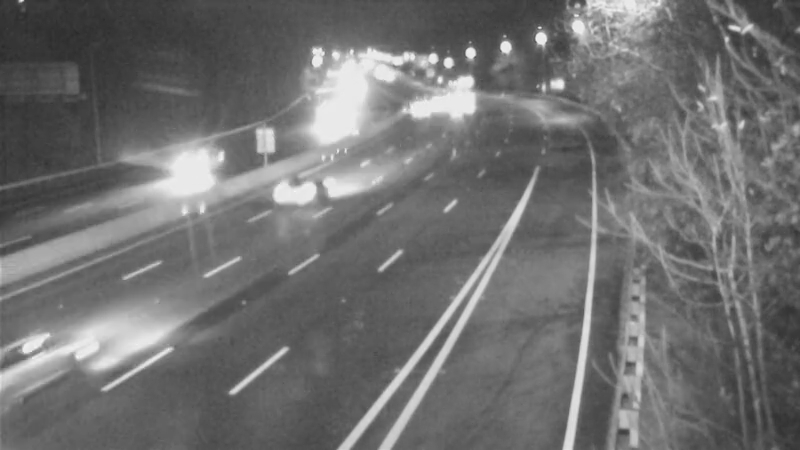vehicle: (1, 311, 94, 421), (258, 155, 338, 235), (149, 122, 229, 202), (435, 65, 485, 115), (413, 74, 463, 124), (433, 80, 483, 130), (389, 77, 439, 127)
